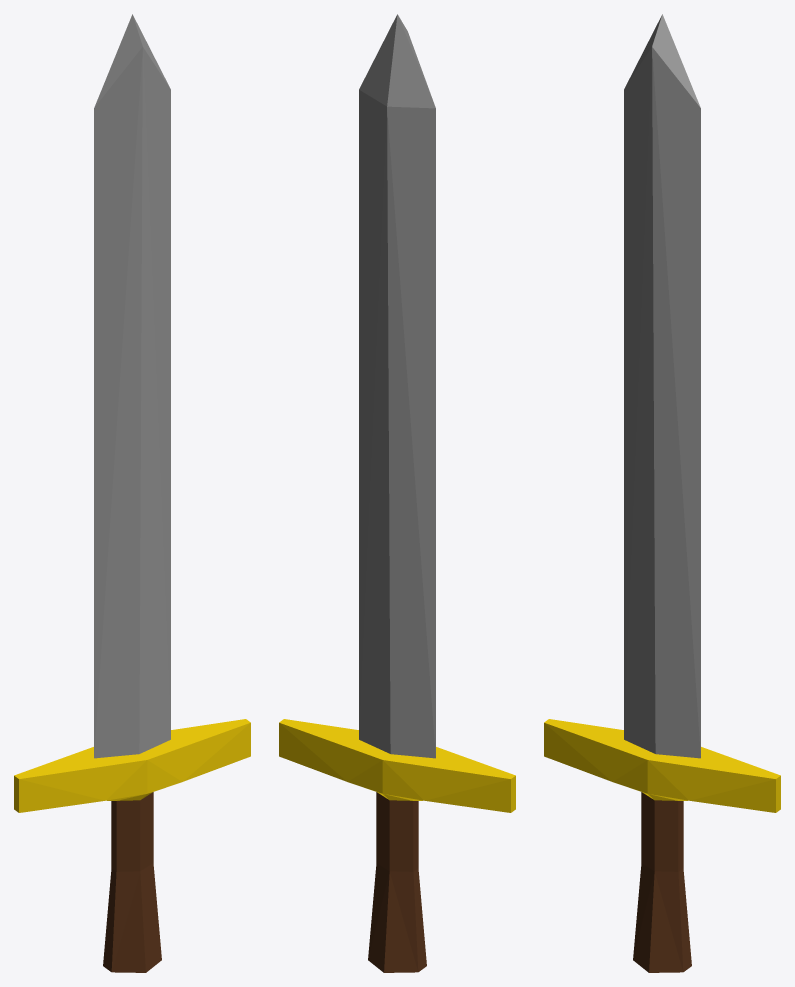
File: sword1.obj
3 views of the same model, side by side, from view 1: azimuth 30°, elevation 25°; view 2: azimuth 150°, elevation 25°; view 3: azimuth 330°, elevation 25° (orthographic).
Visible parts, largest first — view 1: Object.1; view 2: Object.1; view 3: Object.1.
Boxes of the visible parts, x1,y1,x2,y2 form: Object.1: (14, 14, 250, 972); Object.1: (279, 14, 515, 972); Object.1: (544, 14, 780, 972).
Size of the model in its own units: 0.2761 by 1.08 by 0.0613.
